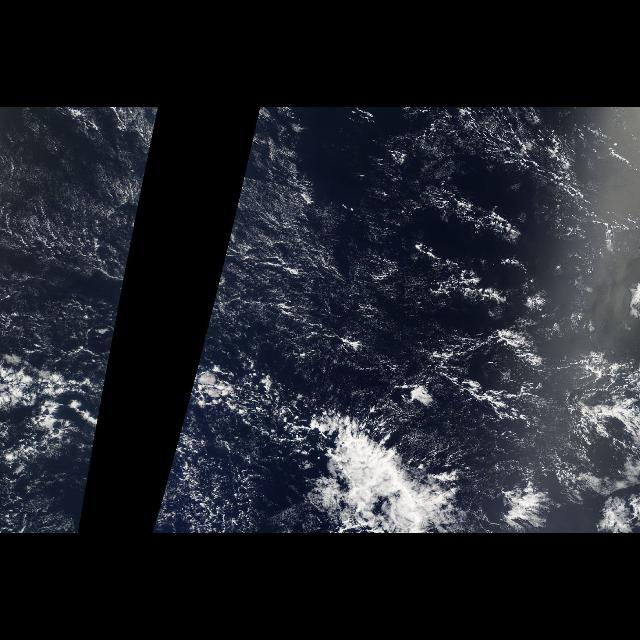Gravel: (153, 383, 320, 532), (400, 234, 576, 370)
Sugar: (196, 108, 422, 366), (2, 108, 158, 366)
